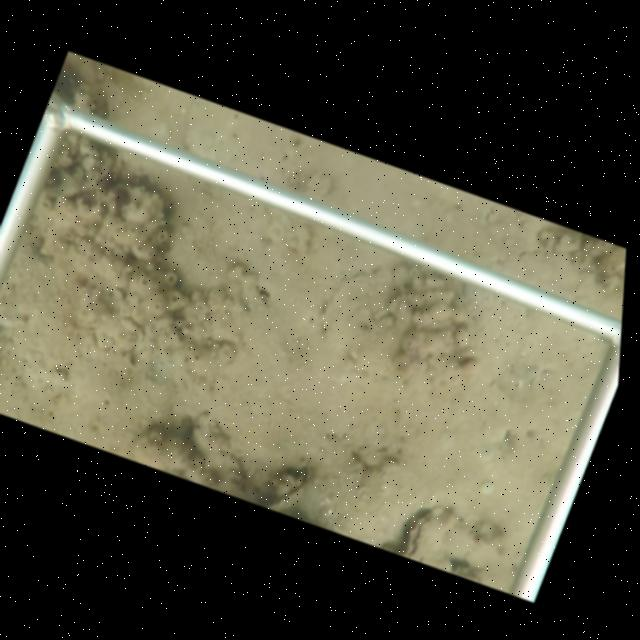Oyster-Closed: (400, 507, 461, 566)
